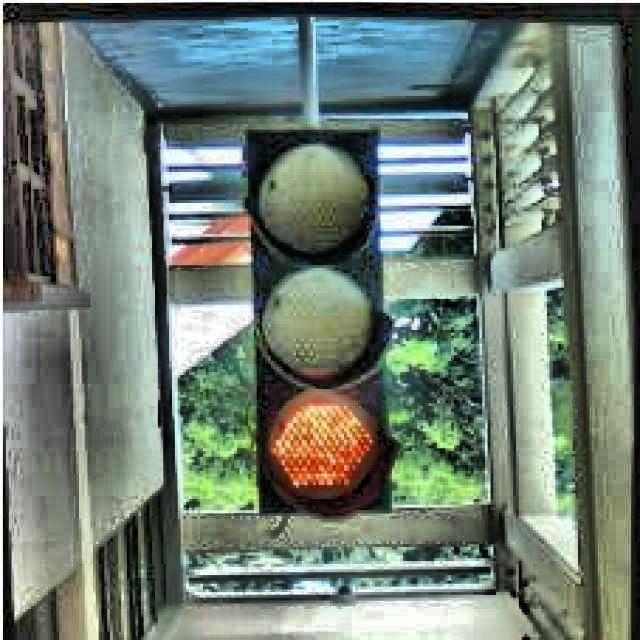red: (246, 131, 398, 517)
